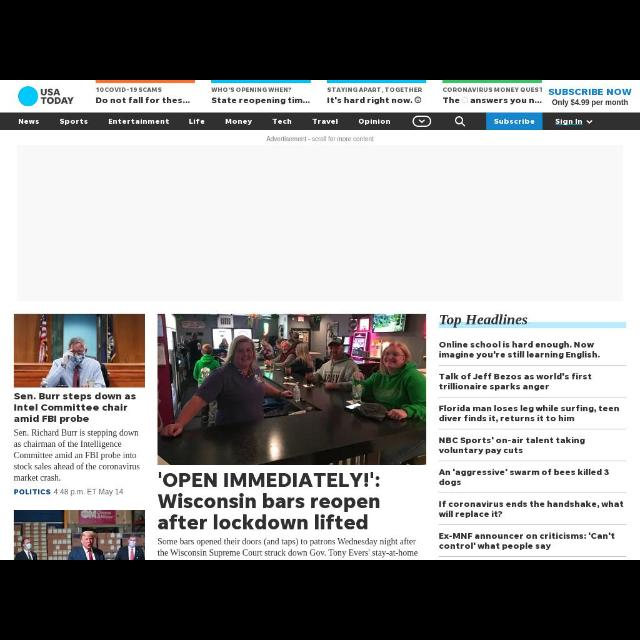icon: (411, 114, 432, 128), (452, 116, 466, 130), (414, 96, 422, 105), (462, 100, 468, 104)
iframe: (20, 134, 626, 310)
image: (156, 310, 427, 464), (15, 311, 146, 389), (13, 511, 145, 557), (15, 84, 75, 108)
spinner: (555, 116, 597, 128), (586, 115, 596, 128)
text: (158, 470, 380, 530), (14, 428, 142, 482), (157, 536, 419, 558), (11, 390, 134, 426), (438, 467, 612, 489), (436, 402, 622, 422), (438, 530, 618, 550), (440, 501, 626, 519), (440, 340, 600, 360), (439, 435, 587, 455), (440, 372, 594, 391), (440, 313, 530, 327), (212, 96, 312, 106), (95, 96, 188, 105), (444, 86, 544, 94), (445, 98, 543, 106), (328, 86, 424, 94), (326, 96, 412, 104), (549, 87, 633, 95), (210, 86, 292, 94), (56, 488, 126, 497), (109, 117, 170, 127), (552, 98, 630, 105), (95, 85, 162, 93), (222, 116, 254, 128), (14, 486, 52, 496), (494, 116, 534, 125), (356, 119, 390, 128), (60, 117, 90, 125), (557, 116, 581, 126), (312, 117, 340, 125), (17, 116, 39, 126), (270, 116, 292, 125), (190, 115, 204, 126)
textbutton: (488, 112, 544, 130)
